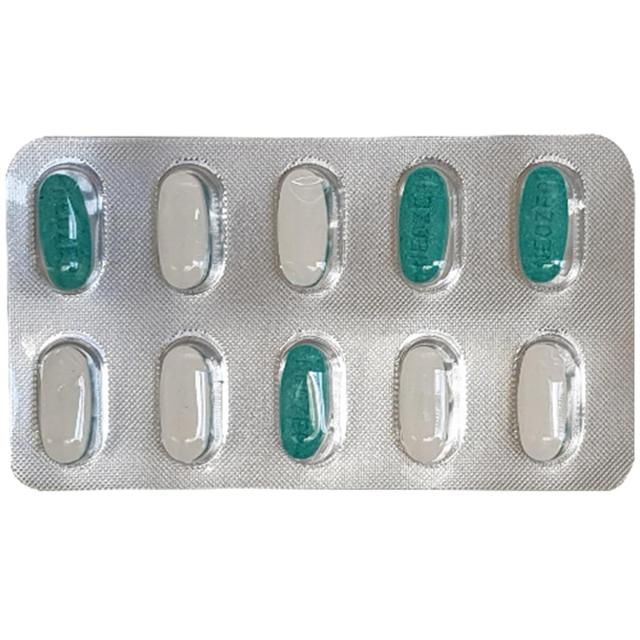blister: (2, 132, 637, 491)
